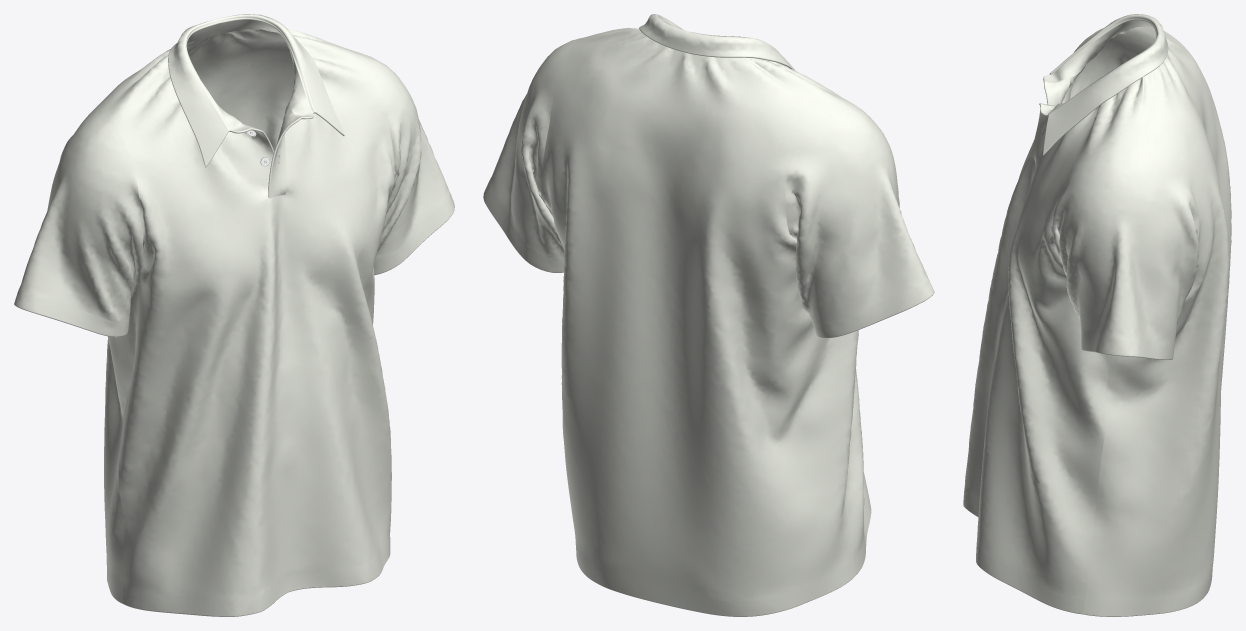
The model's file is polo.glb.
3 renders of one model, left to right at view 1: azimuth 30°, elevation 25°; view 2: azimuth 150°, elevation 25°; view 3: azimuth 270°, elevation 25°, orthographic. The views are drawn at different scales.
Visible parts, largest first — view 1: Short Sleeve Polo; view 2: Short Sleeve Polo; view 3: Short Sleeve Polo.
Boxes of the visible parts, <box> form: Short Sleeve Polo: <box>14,14,454,616</box>; Short Sleeve Polo: <box>483,14,934,616</box>; Short Sleeve Polo: <box>963,14,1231,616</box>.
Bounding box in the file's own units: 0.6034 × 0.7168 × 0.3268.
Materials: 3 (2 with a texture image).
